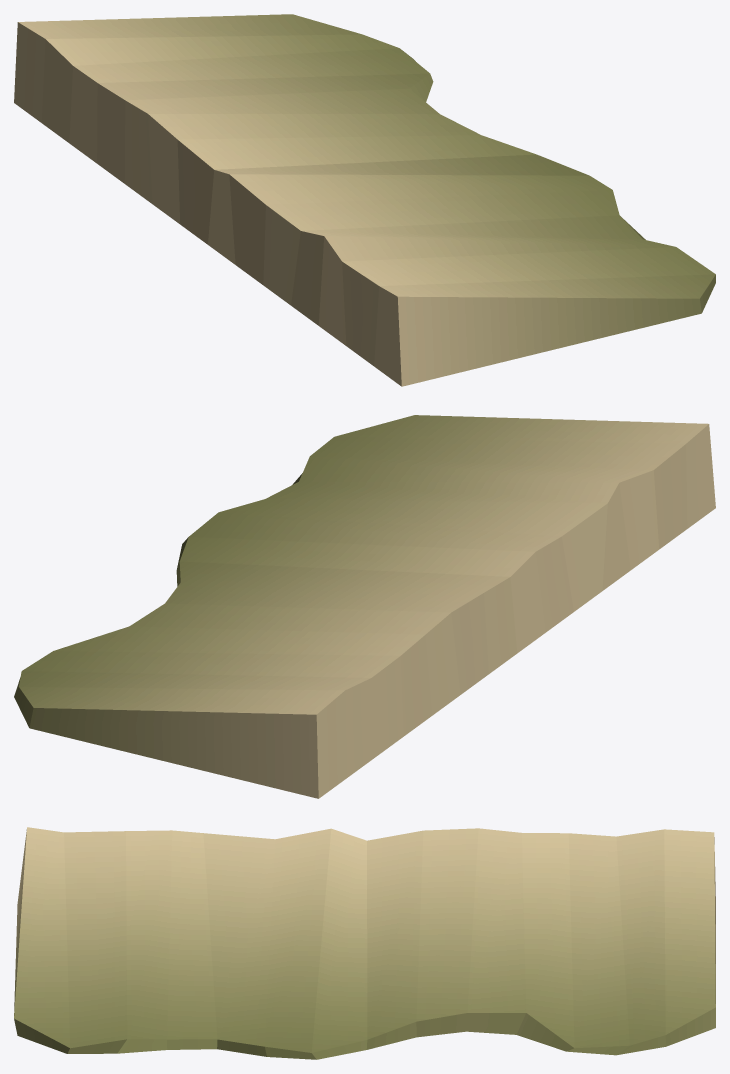
Rendered from beach_1.fbx.
3 renders of one model, top to bottom at view 1: azimuth 30°, elevation 25°; view 2: azimuth 150°, elevation 25°; view 3: azimuth 270°, elevation 25°, orthographic. The views are drawn at different scales.
Visible parts, largest first — view 1: Plane; view 2: Plane; view 3: Plane.
Boxes of the visible parts, x1=… form: Plane: x1=14, y1=14, x2=715, y2=386; Plane: x1=14, y1=415, x2=715, y2=798; Plane: x1=14, y1=827, x2=715, y2=1059.
Size of the model in its own units: 1553 by 359 by 2955.
